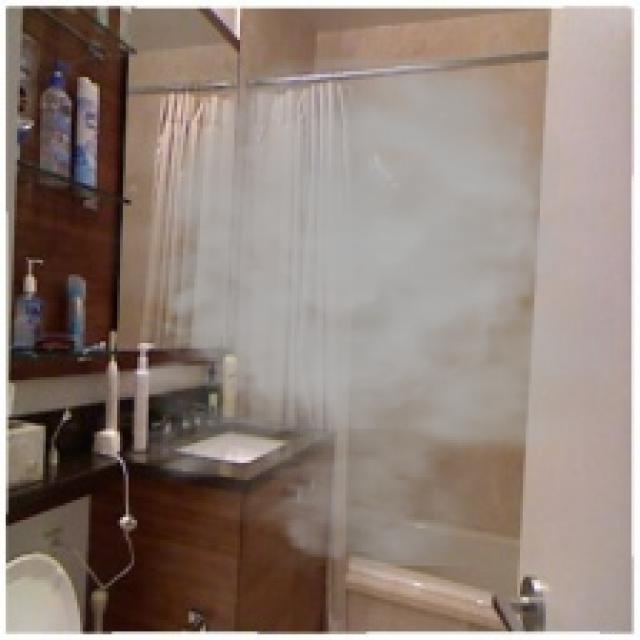smoke: (71, 26, 614, 566)
